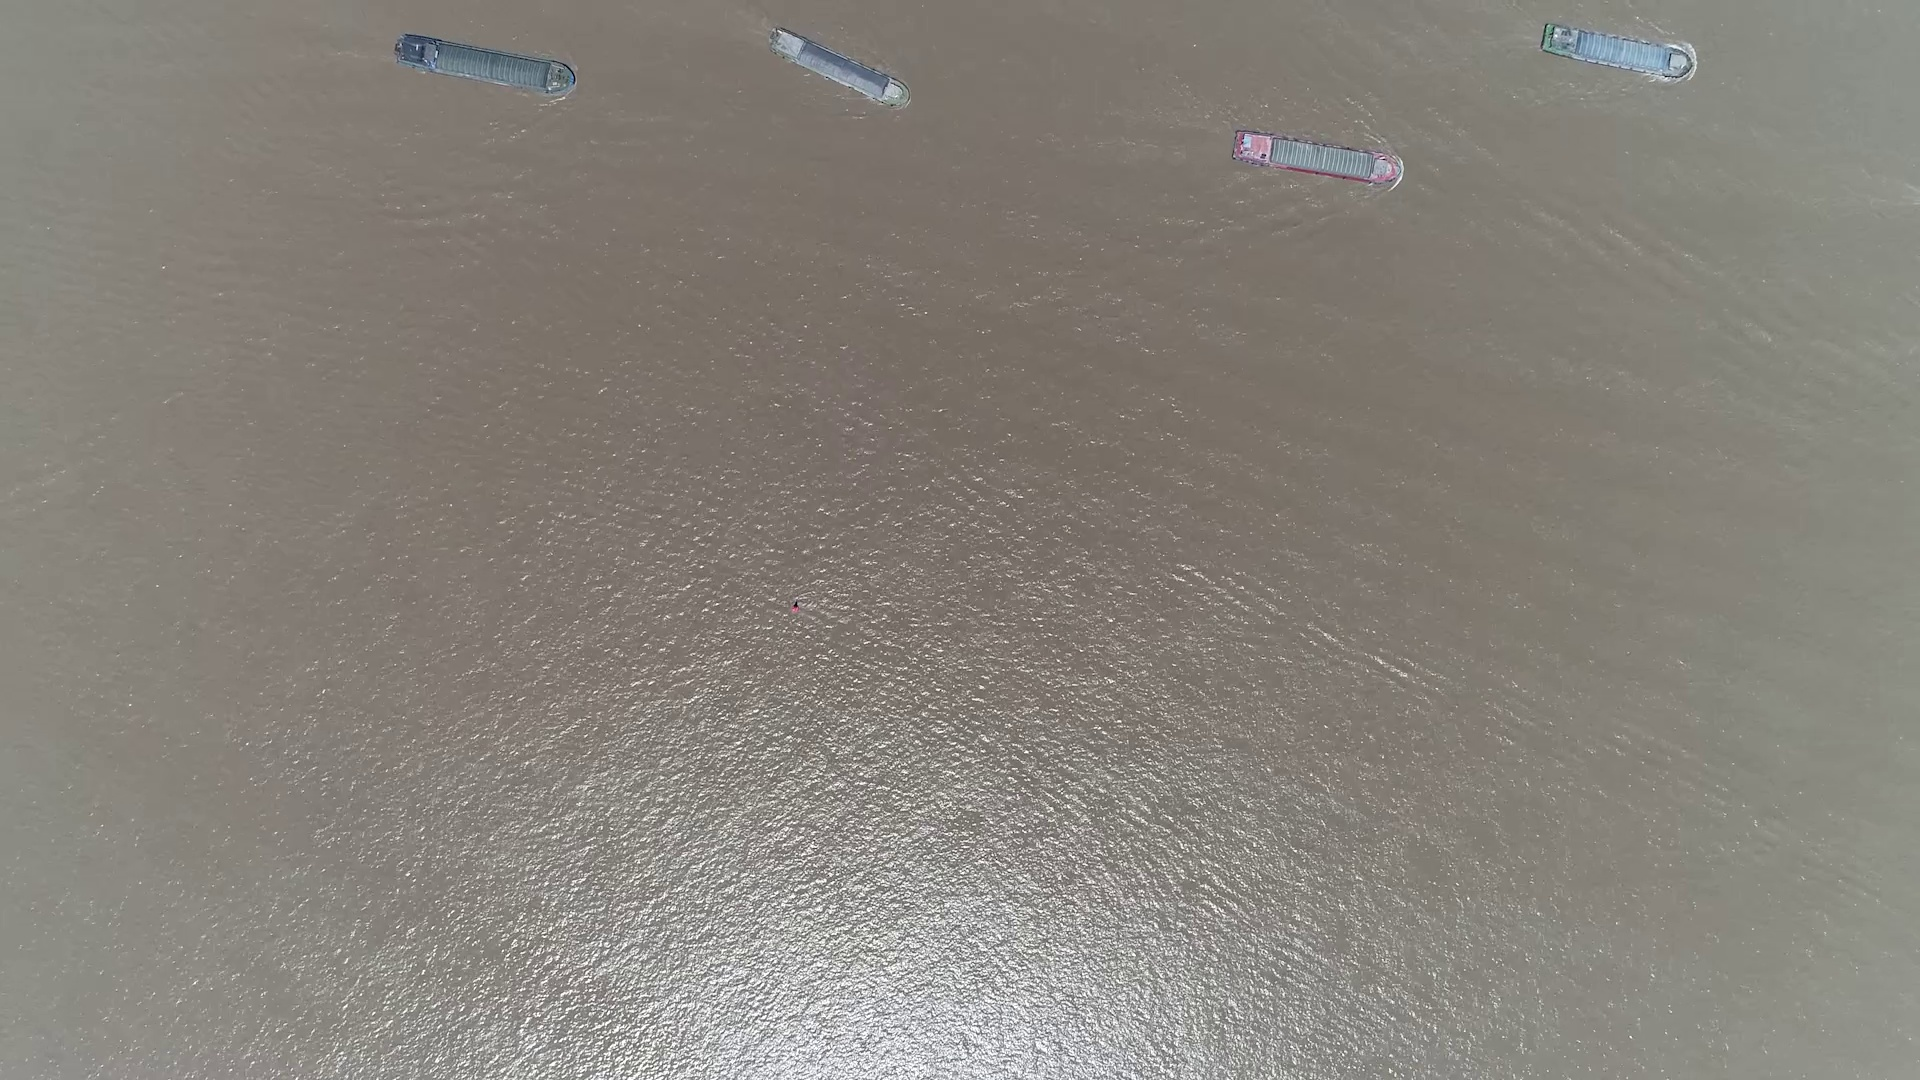ship: (390, 32, 576, 98), (764, 28, 907, 109), (1232, 131, 1402, 186), (1536, 26, 1696, 80)
